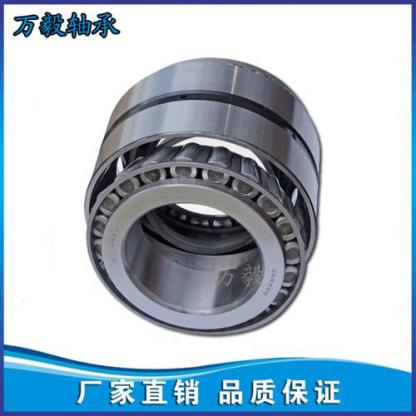FOD: (78, 57, 326, 340)
